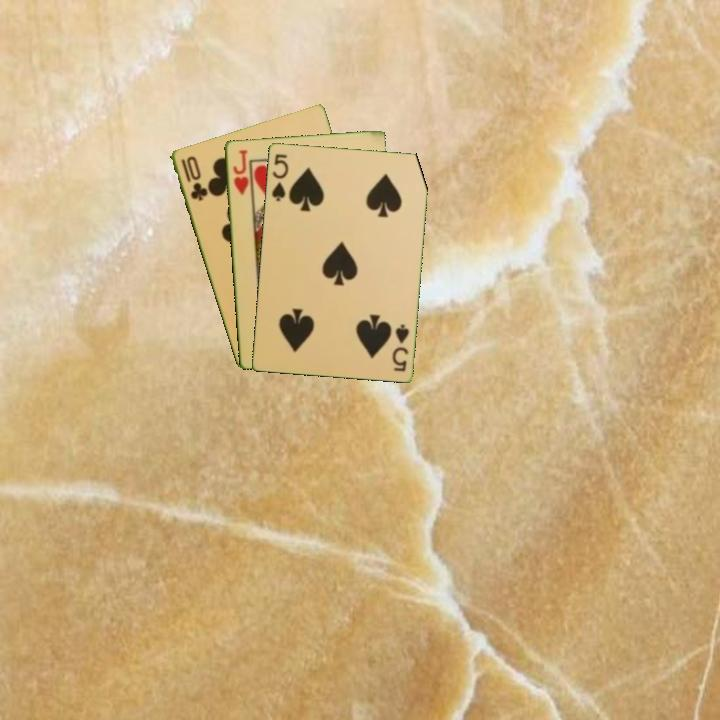10c: (177, 152, 210, 204)
5s: (268, 150, 291, 204), (388, 320, 411, 374)
Jh: (229, 146, 251, 198)
